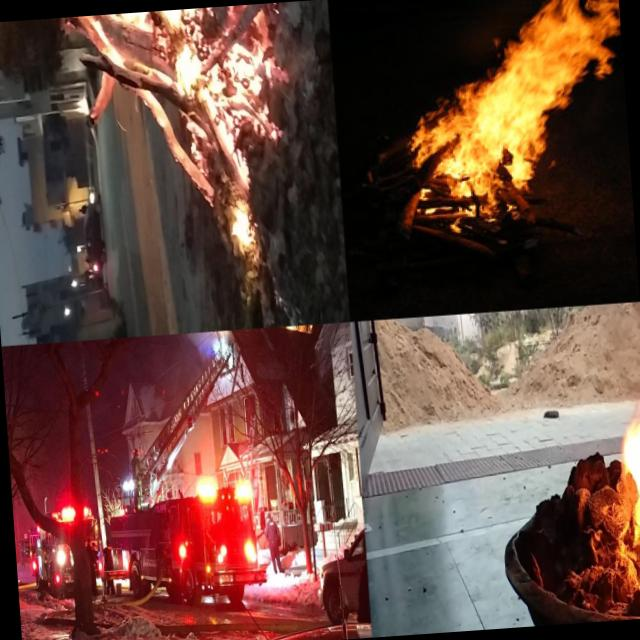fire: (20, 4, 277, 343), (392, 0, 633, 228), (607, 367, 640, 595), (281, 325, 302, 336), (216, 330, 228, 340)
smoke: (182, 331, 216, 366)
